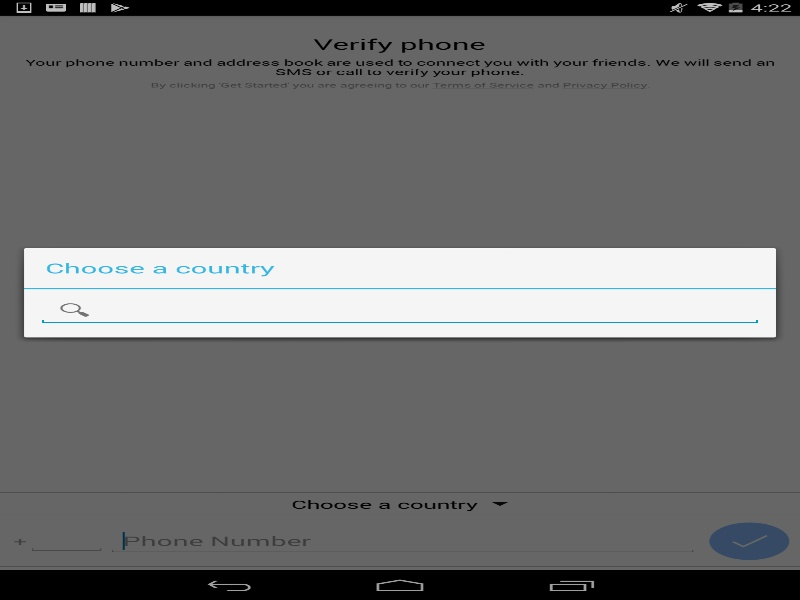Input: (37, 295, 762, 325)
